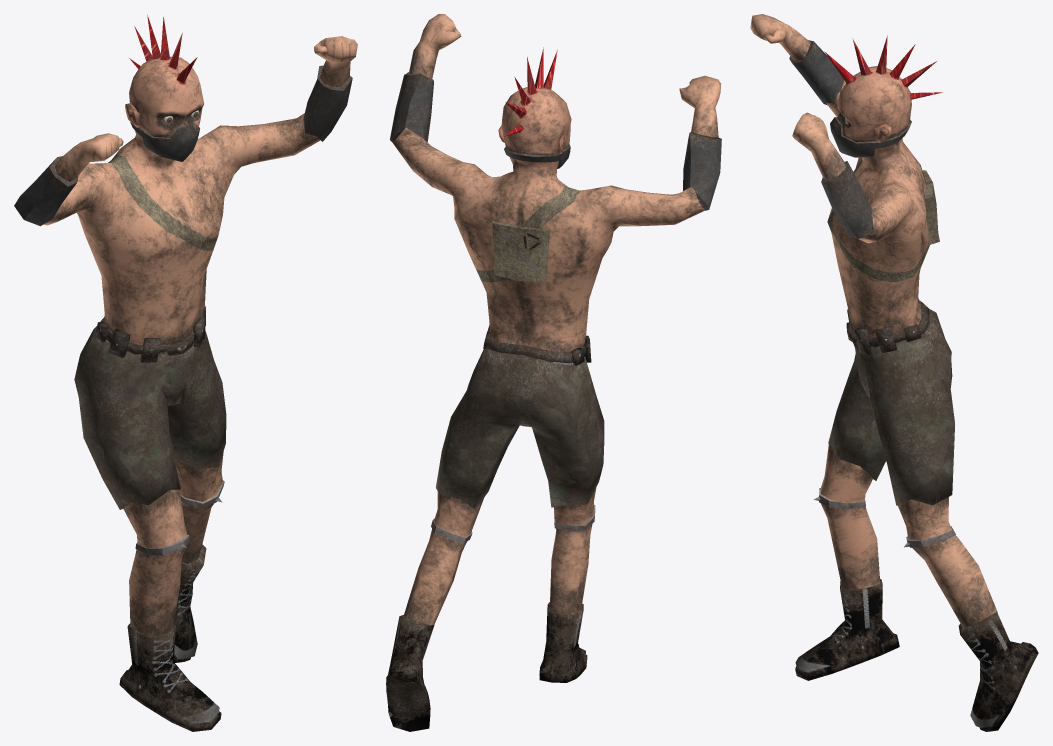
Rendered from Anim_ganar_1_npc2.0026.obj.
3 renders of one model, left to right at view 1: azimuth 30°, elevation 25°; view 2: azimuth 150°, elevation 25°; view 3: azimuth 270°, elevation 25°, orthographic. The views are drawn at different scales.
Parts seen in each view (by area): view 1: polySurface1; view 2: polySurface1; view 3: polySurface1.
Boxes of the visible parts, x1,y1,x2,y2 form: polySurface1: (14, 15, 357, 731); polySurface1: (386, 14, 721, 731); polySurface1: (750, 14, 1038, 731).
Bounding box in the file's own units: 5.19 × 10.57 × 4.17.
